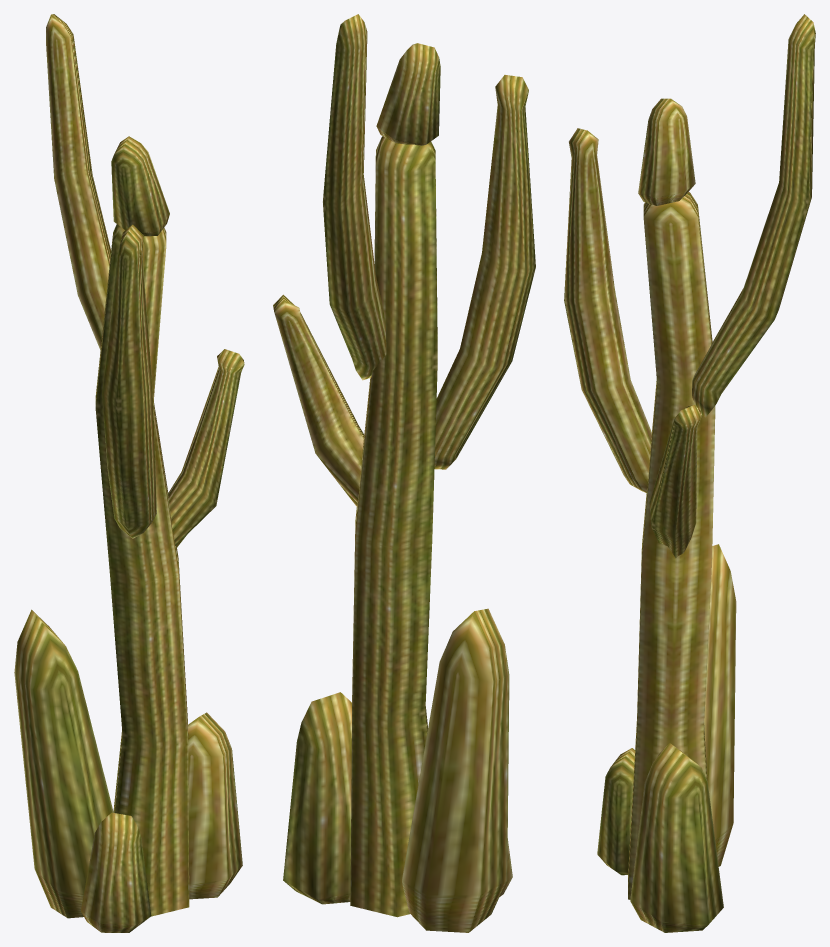
Rendered from S_Plant_Yellow004.FBX.
The picture shows the model from 3 angles, left to right: view 1: azimuth 30°, elevation 25°; view 2: azimuth 150°, elevation 25°; view 3: azimuth 270°, elevation 25°; orthographic projection. The views are drawn at different scales.
Parts seen in each view (by area): view 1: S_Plant_Yellow004; view 2: S_Plant_Yellow004; view 3: S_Plant_Yellow004.
Part boxes in pixels (x1,y1,x2,y2): S_Plant_Yellow004: (14,14,244,932); S_Plant_Yellow004: (273,14,535,932); S_Plant_Yellow004: (564,14,815,932).
Bounding box in the file's own units: 103 × 103 × 390.
